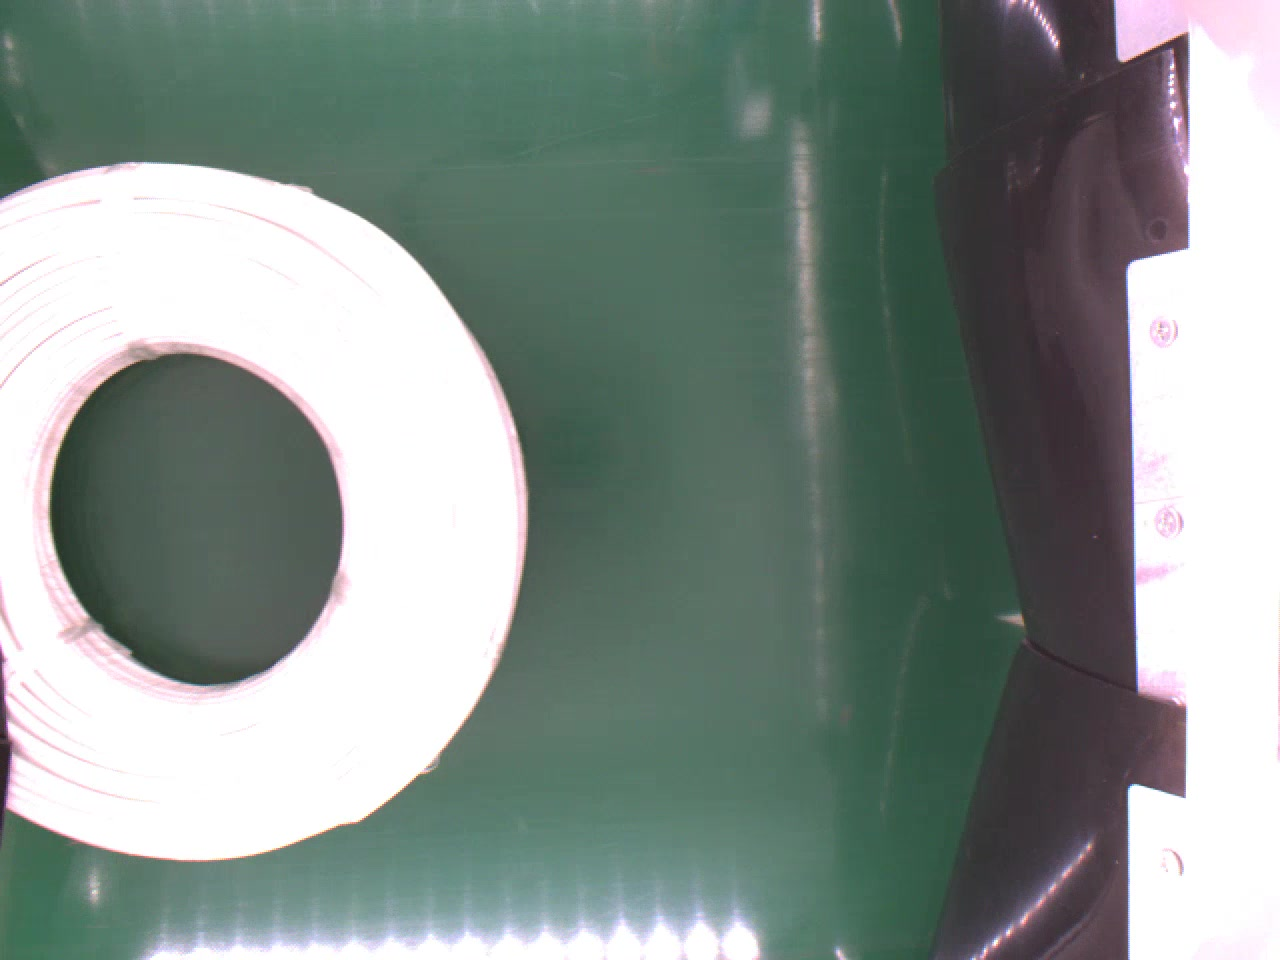white: (0, 155, 532, 866)
